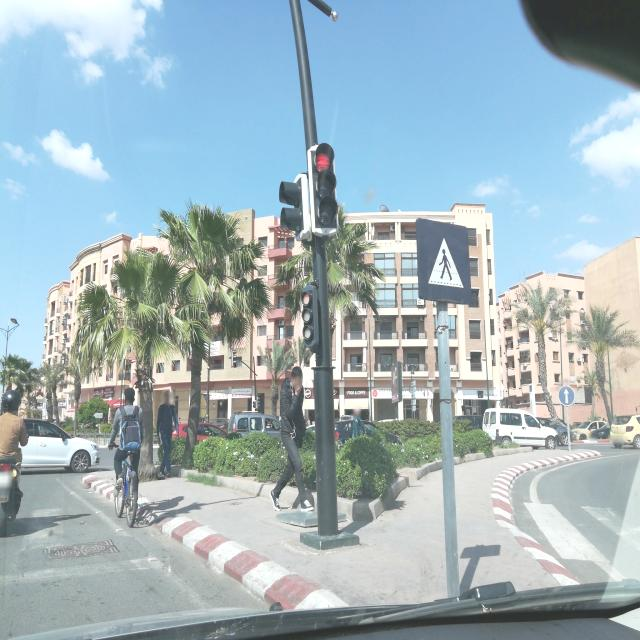bike: (111, 436, 142, 526), (0, 435, 25, 541)
car: (18, 417, 100, 473), (482, 408, 560, 450), (226, 412, 286, 438), (609, 413, 640, 449), (537, 418, 575, 446), (572, 420, 610, 440), (193, 421, 226, 440)
